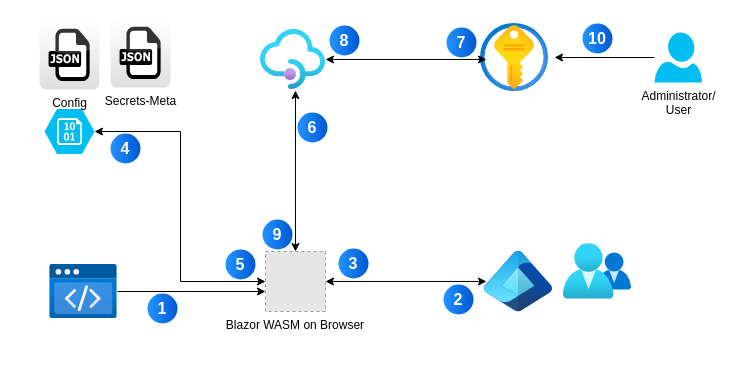
This 733x372 diagram has some shape labels left out. Grey dashed boxes stand in for pictures. Each missing label, with the centre of its shape:
"API Management" belongs at [292,59].
"Azure Blob Storage with RBAC" belongs at [69,131].
"Azure Key Vault with RBAC" belongs at [514,57].
"Azure Static Web App custom domain" belongs at [83,291].
"Entra" belongs at [518,281].
"Groups with Storage and KeyVault roles" belongs at [597,271].
